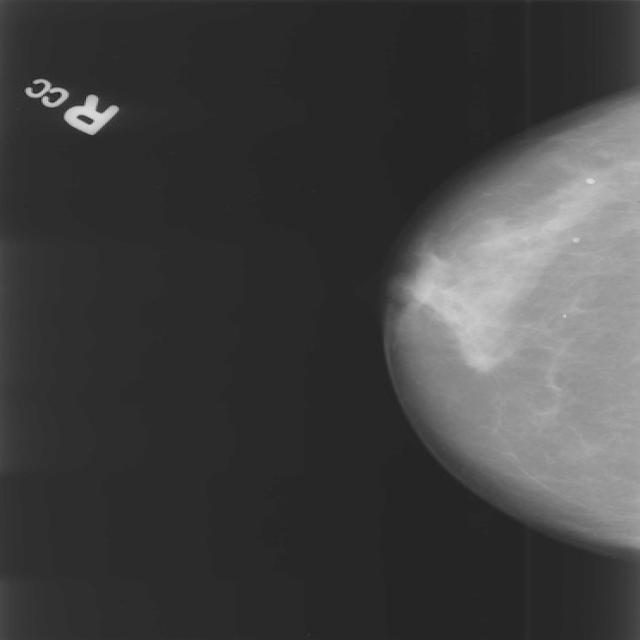tumour: (460, 336, 508, 373)
